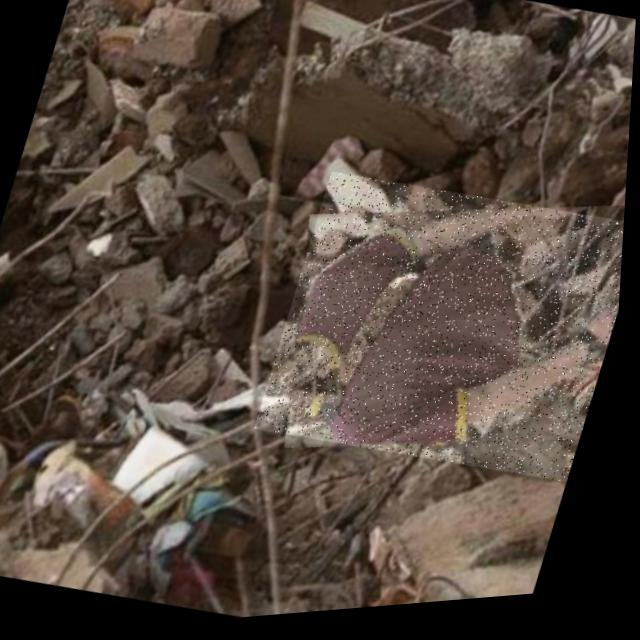Person in Rubble: (255, 157, 631, 511)
